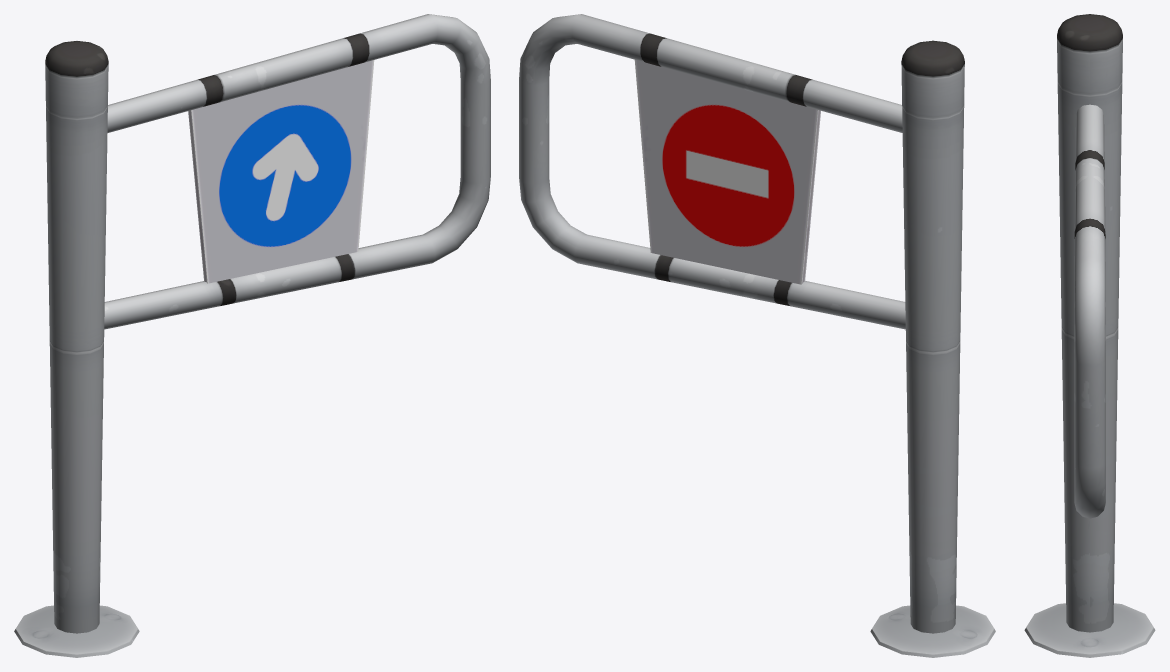
Rendered from CommTurnStile01_1.FBX.
The picture shows the model from 3 angles, left to right: view 1: azimuth 30°, elevation 25°; view 2: azimuth 150°, elevation 25°; view 3: azimuth 270°, elevation 25°; orthographic projection. The views are drawn at different scales.
Visible parts, largest first — view 1: CommTurnStile01_1; view 2: CommTurnStile01_1; view 3: CommTurnStile01_1.
Part boxes in pixels (x1,y1,x2,y2): CommTurnStile01_1: (14,14,490,657); CommTurnStile01_1: (519,14,995,657); CommTurnStile01_1: (1024,14,1155,657).
Size of what is drawn, in the model's own units: 0.9109 by 1.08 by 0.2124.
